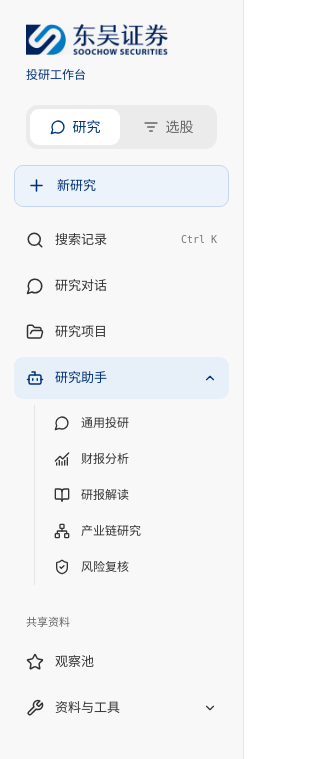
can collapse and reopen the assistant child entries while on the assistant page
The image size is (320, 759).
Check: the button with aria-label "使用风险复核" is shown, box [44,549,229,585]
Click the button "研究助手": {"x": 122, "y": 378} [14,357,229,399]
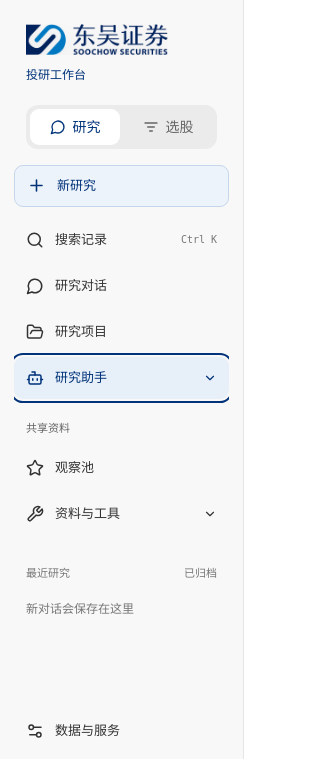
Check: the button "研究助手" is collapsed
Check: the button "使用风险复核" is gone
Click the button "研究助手": {"x": 122, "y": 378} [14,357,229,399]
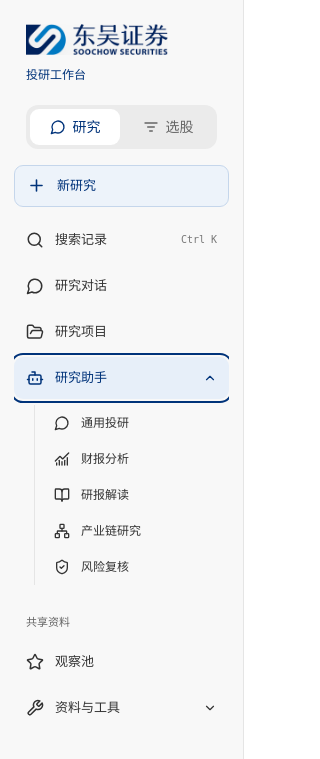
Check: the button "研究助手" is expanded, box [14,357,229,399]
Check: the button with aria-label "使用风险复核" is shown, box [44,549,229,585]
